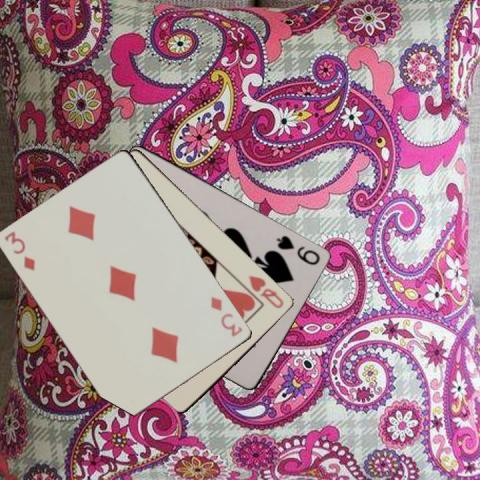3d: (208, 293, 244, 338), (2, 228, 37, 272)
9s: (273, 232, 322, 267)
Qh: (246, 272, 286, 310)
